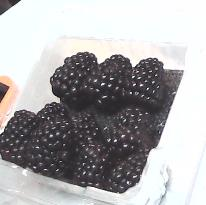berry: (26, 115, 71, 177), (49, 51, 97, 109), (82, 53, 130, 111), (107, 107, 157, 157), (120, 57, 168, 108), (0, 109, 37, 166), (103, 147, 149, 192), (72, 140, 110, 188), (70, 110, 107, 154), (36, 102, 67, 120)
